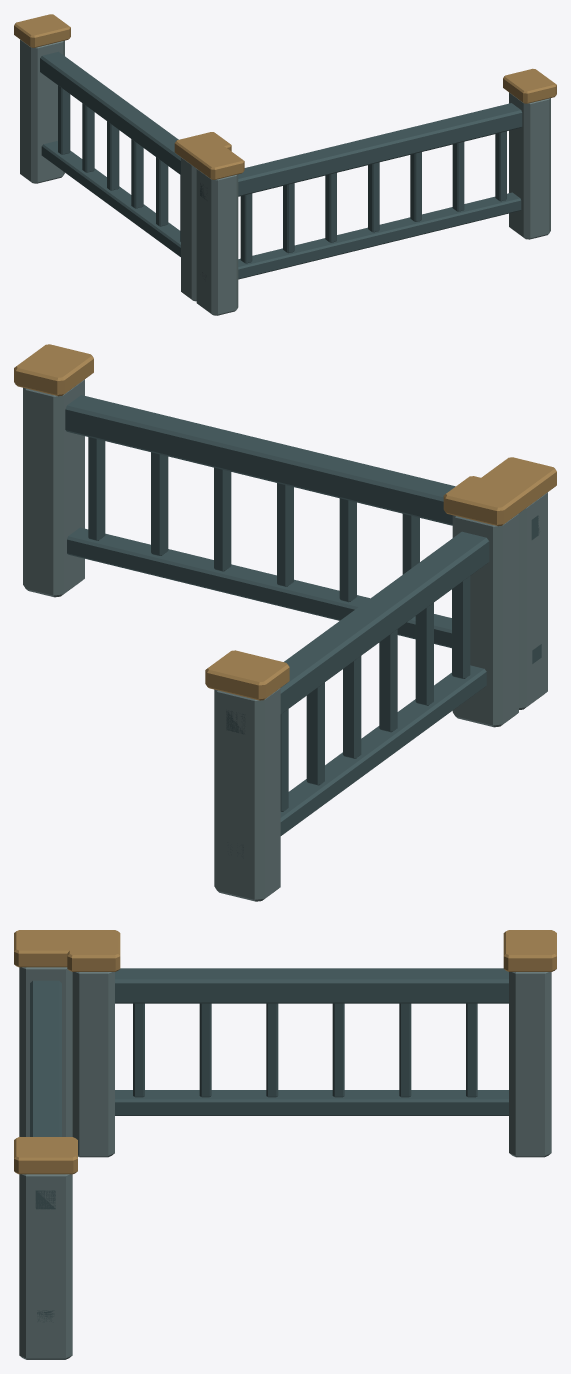
Rendered from railing-corner.glb.
The picture shows the model from 3 angles, top to bottom: view 1: azimuth 30°, elevation 25°; view 2: azimuth 150°, elevation 25°; view 3: azimuth 270°, elevation 25°; orthographic projection. The views are drawn at different scales.
Visible parts, largest first — view 1: railing-corner__body; view 2: railing-corner__body; view 3: railing-corner__body.
Boxes of the visible parts, <box> form: railing-corner__body: <box>14,14,556,315</box>; railing-corner__body: <box>14,344,556,901</box>; railing-corner__body: <box>14,930,556,1359</box>.
Size of the model in its own units: 2.04 by 0.85 by 2.04.
